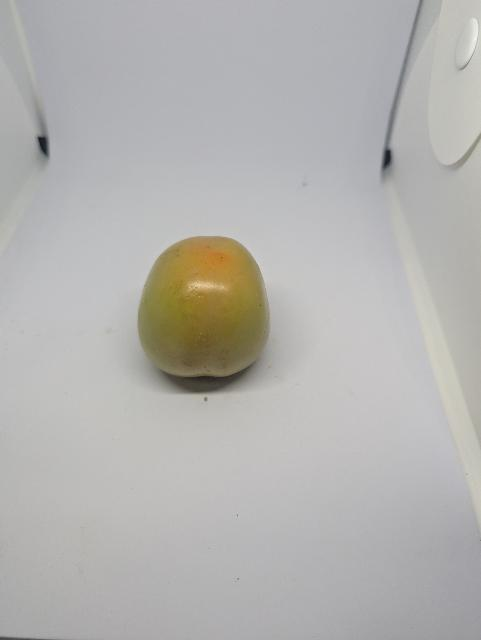breaker: (130, 225, 282, 381)
